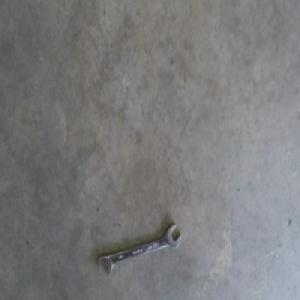Wrench: (99, 223, 180, 279)
